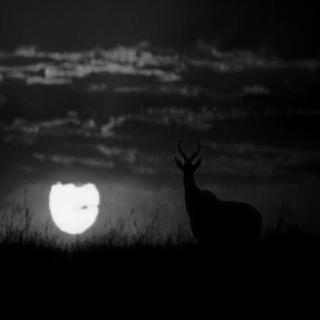other: (44, 169, 106, 235)
